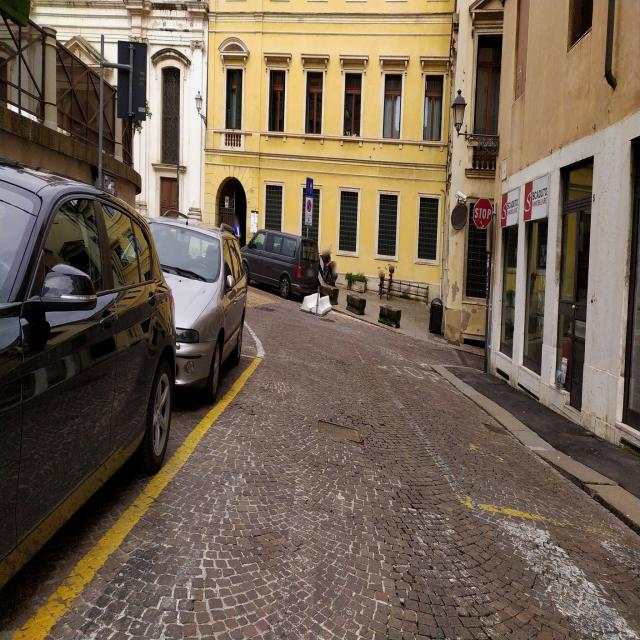car: (0, 155, 177, 631), (142, 213, 246, 404), (240, 228, 320, 300)
